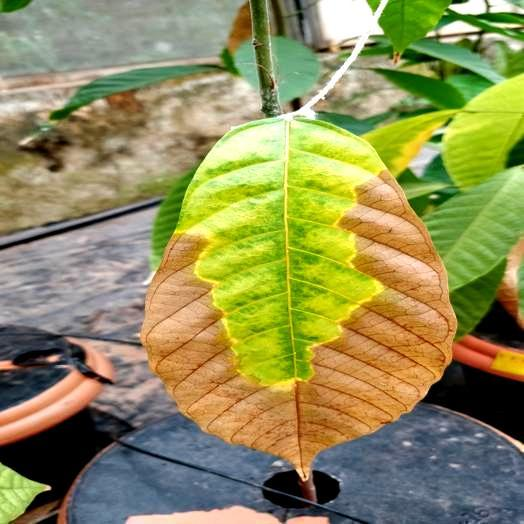Potassium: (142, 116, 455, 478)
